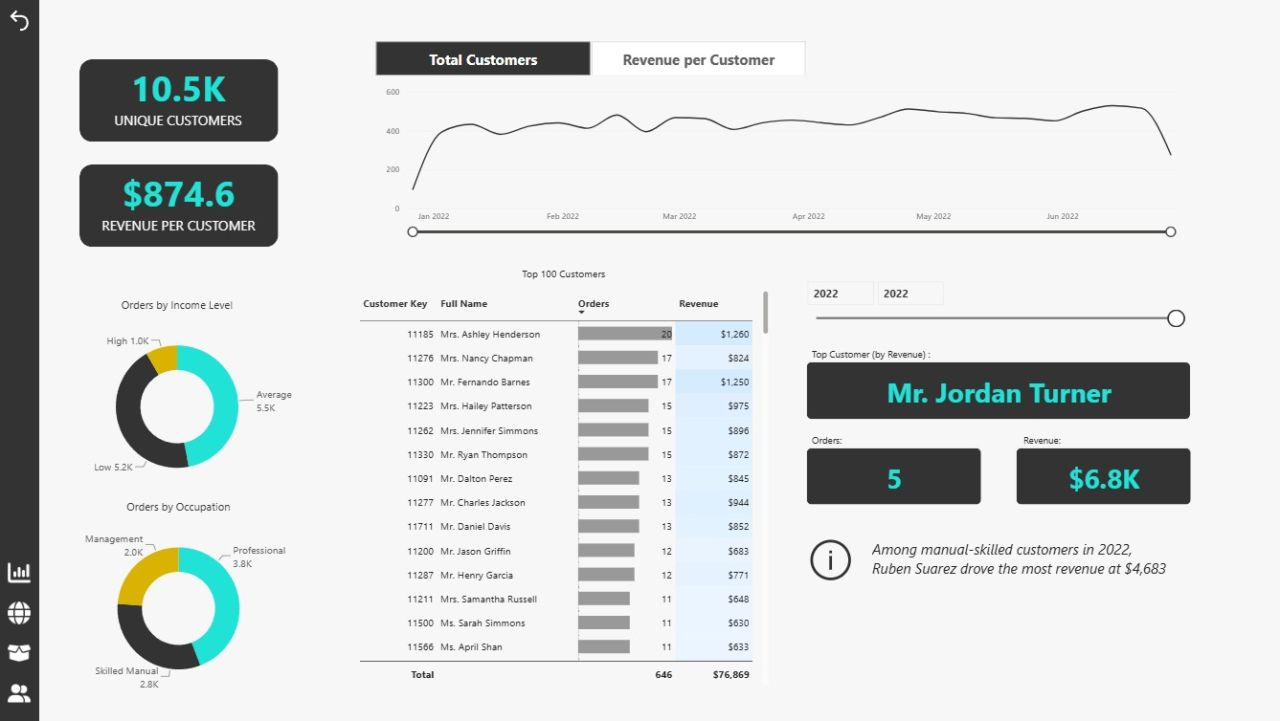

The dashboard page shown, as its layout file describes it:
{"tool":"powerbi","page":{"name":"Customer Detail","canvas":[1920,1080],"ordinal":3},"visuals":[{"type":"shape","title":"Left Nav bg","box":[0,0,60,1080],"z":0},{"type":"actionButton","box":[0,1005,60,60],"z":0,"group":"g1"},{"type":"shape","box":[120,245.2,296.7,123.3],"z":1000},{"type":"actionButton","box":[0,945,60,60],"z":1000,"group":"g1"},{"type":"shape","box":[120,88.6,296.7,123.3],"z":2000},{"type":"actionButton","box":[0,885,60,60],"z":2000,"group":"g1"},{"type":"cardVisual","fields":{"Data":["Measures Table.Average Revenue per Customer"]},"box":[82.7,198.2,370,205],"z":3000},{"type":"actionButton","box":[0,825,60,60],"z":3000,"group":"g1"},{"type":"cardVisual","fields":{"Data":["Measures Table.Total Customers"]},"box":[134.5,41.4,266.7,205],"z":4000},{"type":"lineChart","title":"Customers Trending","fields":{"Category":["Calendar Lookup.Start of Year Hierarchy.Start of Year","Calendar Lookup.Start of Year Hierarchy.Start of Month","Calendar Lookup.Start of Year Hierarchy.Start of Week","Calendar Lookup.Start of Year Hierarchy.Date"],"Y":["Measures Table.Total Customers"]},"box":[561.4,114.3,1227.1,254.3],"z":5000},{"type":"donutChart","title":"Orders by Income Level","fields":{"Category":["Customer Lookup.Income Level"],"Y":["Measures Table.Total Orders"]},"box":[78.6,430,374.3,320],"z":6000},{"type":"donutChart","title":"Orders by Occupation","fields":{"Category":["Customer Lookup.Occupation"],"Y":["Measures Table.Total Orders"]},"box":[83.3,731.7,370,320],"z":7000},{"type":"tableEx","title":"Top 100 Customers","fields":{"Values":["Customer Lookup.CustomerKey","Customer Lookup.Full Name","Measures Table.Total Orders","Measures Table.Total Revenue"]},"box":[521.4,384.3,642.9,655.7],"z":8000},{"type":"cardVisual","fields":{"Data":["Measures Table.Full Name (Customer Detail)"]},"box":[1204.3,540,574.3,87.1],"z":9000},{"type":"textbox","box":[1213.5,518.6,188.8,28.8],"z":10000},{"type":"cardVisual","fields":{"Data":["Measures Table.Total Orders (Customer Detail)"]},"box":[1204.3,668.6,262.2,86.7],"z":11000},{"type":"textbox","box":[1213.5,646.9,188.8,28.8],"z":12000},{"type":"cardVisual","fields":{"Data":["Measures Table.Total Revenue (Customer Detail)"]},"box":[1516.5,668.6,262.2,86.7],"z":13000},{"type":"textbox","box":[1528.5,646.9,188.8,28.8],"z":14000},{"type":"slicer","fields":{"Values":["Calendar Lookup.Year"]},"box":[1198.6,415.7,574.3,90],"z":15000},{"type":"actionButton","box":[0,0,60,60],"z":16000},{"type":"actionButton","box":[1181.7,786.7,118.3,98.3],"z":17000},{"type":"textbox","box":[1303.3,805,450,71.7],"z":18000},{"type":"group","id":"g1","title":"Group 1","box":[0,825,60,240],"z":19000},{"type":"slicer","fields":{"Values":["Customer Metric Selection.Customer Metric Selection"]},"box":[541.4,60,681.4,54.3],"z":20000}]}

Visuals, with their boxes on the page's 1920x1080 design canvas (x1, y1, x2, y2). These are canvas units, not pixel positions in the 1280x721 screenshot, which may show the page scaled, cropped or inside an application window:
"Left Nav bg" shape: region(0, 0, 60, 1080)
actionButton: region(0, 1005, 60, 1065)
shape: region(120, 245, 417, 368)
actionButton: region(0, 945, 60, 1005)
shape: region(120, 89, 417, 212)
actionButton: region(0, 885, 60, 945)
cardVisual - Measures Table.Average Revenue per Customer: region(83, 198, 453, 403)
actionButton: region(0, 825, 60, 885)
cardVisual - Measures Table.Total Customers: region(134, 41, 401, 246)
"Customers Trending" lineChart: region(561, 114, 1788, 369)
"Orders by Income Level" donutChart: region(79, 430, 453, 750)
"Orders by Occupation" donutChart: region(83, 732, 453, 1052)
"Top 100 Customers" tableEx: region(521, 384, 1164, 1040)
cardVisual - Measures Table.Full Name (Customer Detail): region(1204, 540, 1779, 627)
textbox: region(1214, 519, 1402, 547)
cardVisual - Measures Table.Total Orders (Customer Detail): region(1204, 669, 1466, 755)
textbox: region(1214, 647, 1402, 676)
cardVisual - Measures Table.Total Revenue (Customer Detail): region(1516, 669, 1779, 755)
textbox: region(1528, 647, 1717, 676)
slicer - Calendar Lookup.Year: region(1199, 416, 1773, 506)
actionButton: region(0, 0, 60, 60)
actionButton: region(1182, 787, 1300, 885)
textbox: region(1303, 805, 1753, 877)
"Group 1" group: region(0, 825, 60, 1065)
slicer - Customer Metric Selection.Customer Metric Selection: region(541, 60, 1223, 114)
